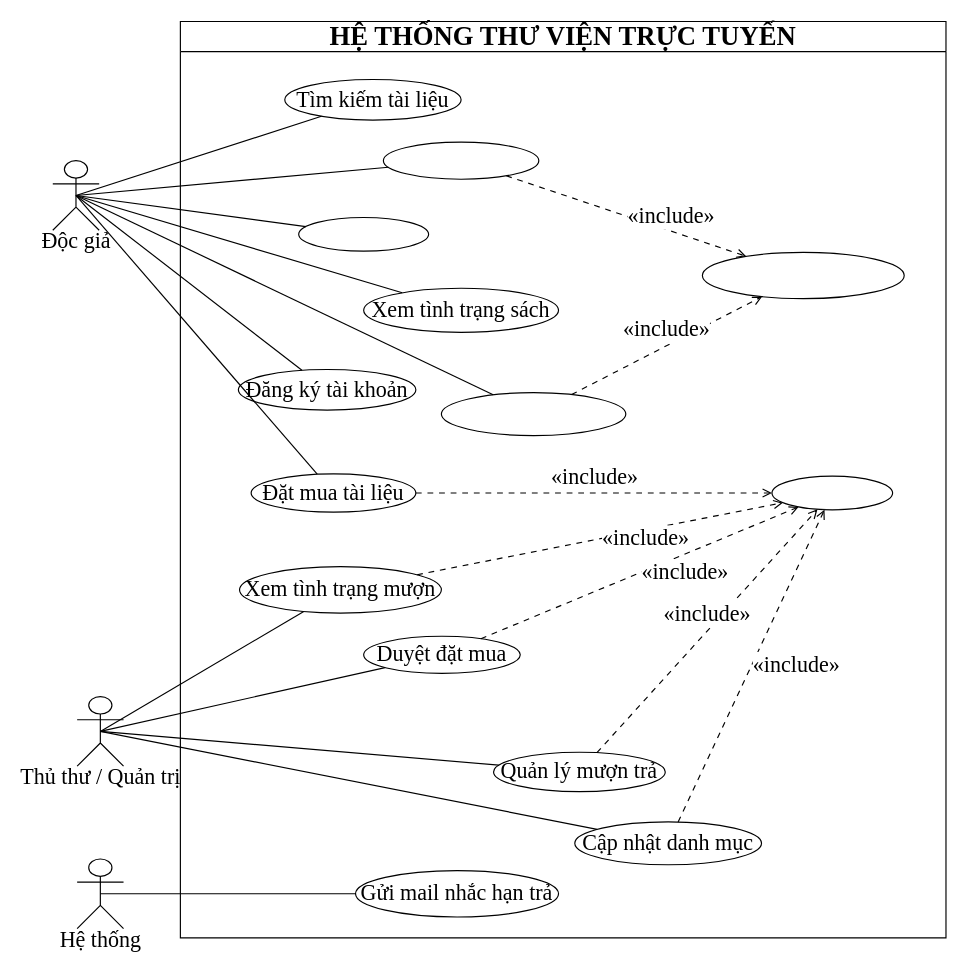
Some shapes in this 966 by 973 pixel diagram are drawn without their labels. Each missing label, with the box of its shape:
Nhập mã thẻ thư viện: (701, 251, 904, 299)
Tải tài liệu: (298, 216, 429, 251)
Đăng ký mượn sách: (440, 392, 626, 436)
Đăng nhập: (771, 475, 893, 510)
Đọc trực tuyến: (382, 141, 539, 179)
